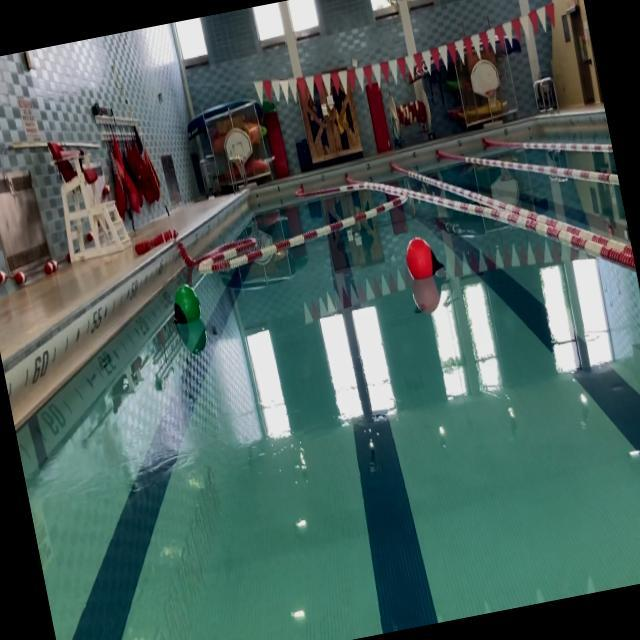buoy: (403, 233, 446, 284), (168, 283, 204, 328)
